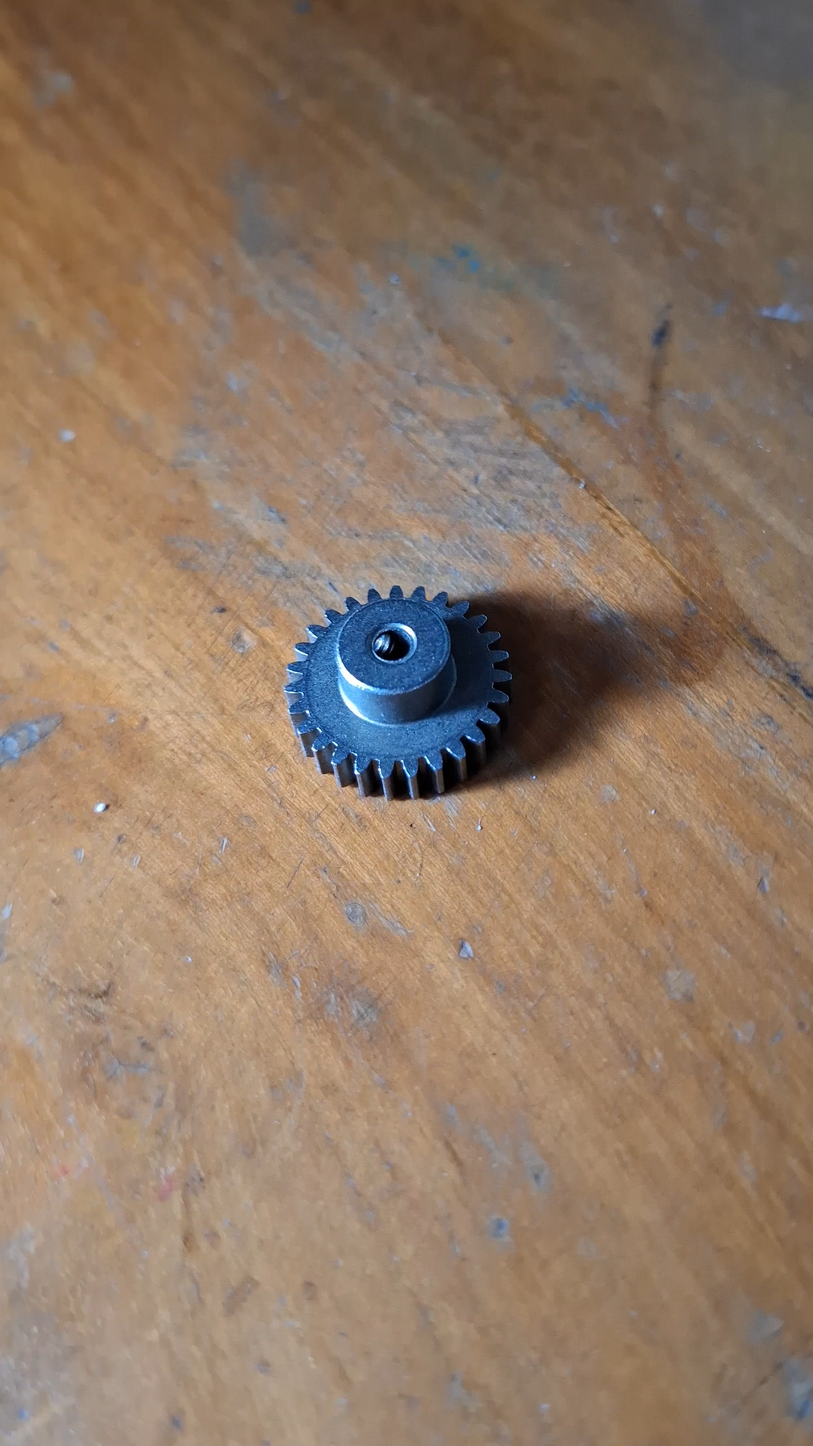spur gear: (285, 587, 511, 798)
